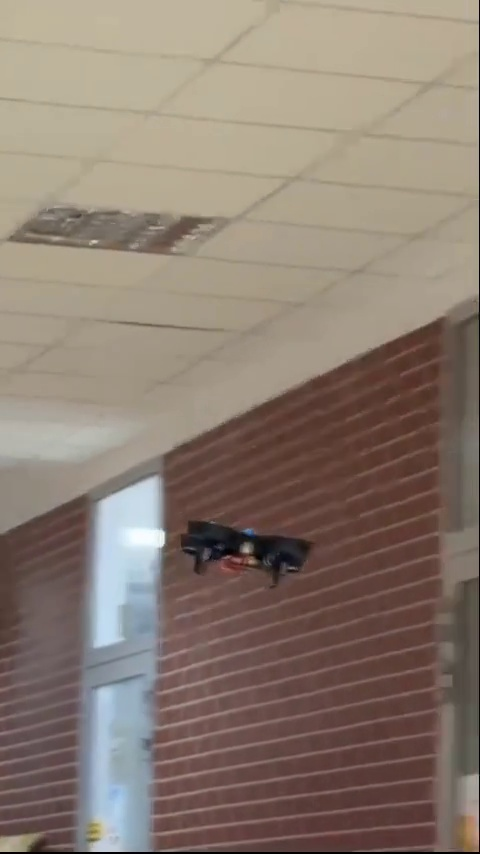drone: (183, 518, 304, 584)
